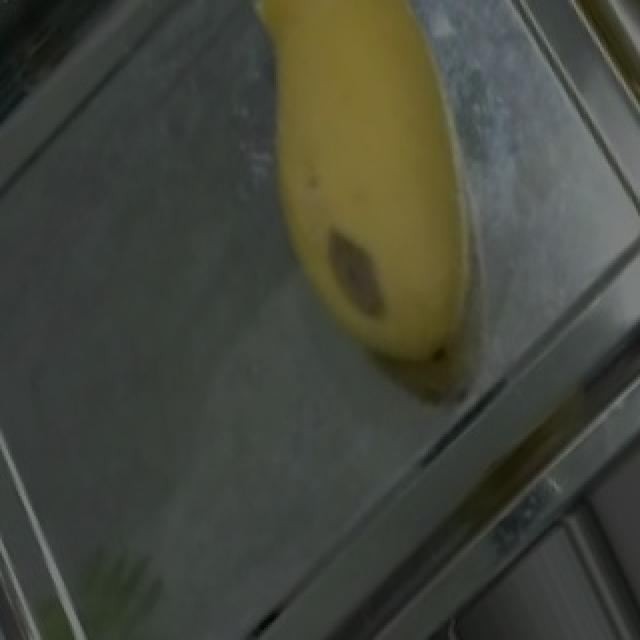fruit: (214, 0, 592, 382)
